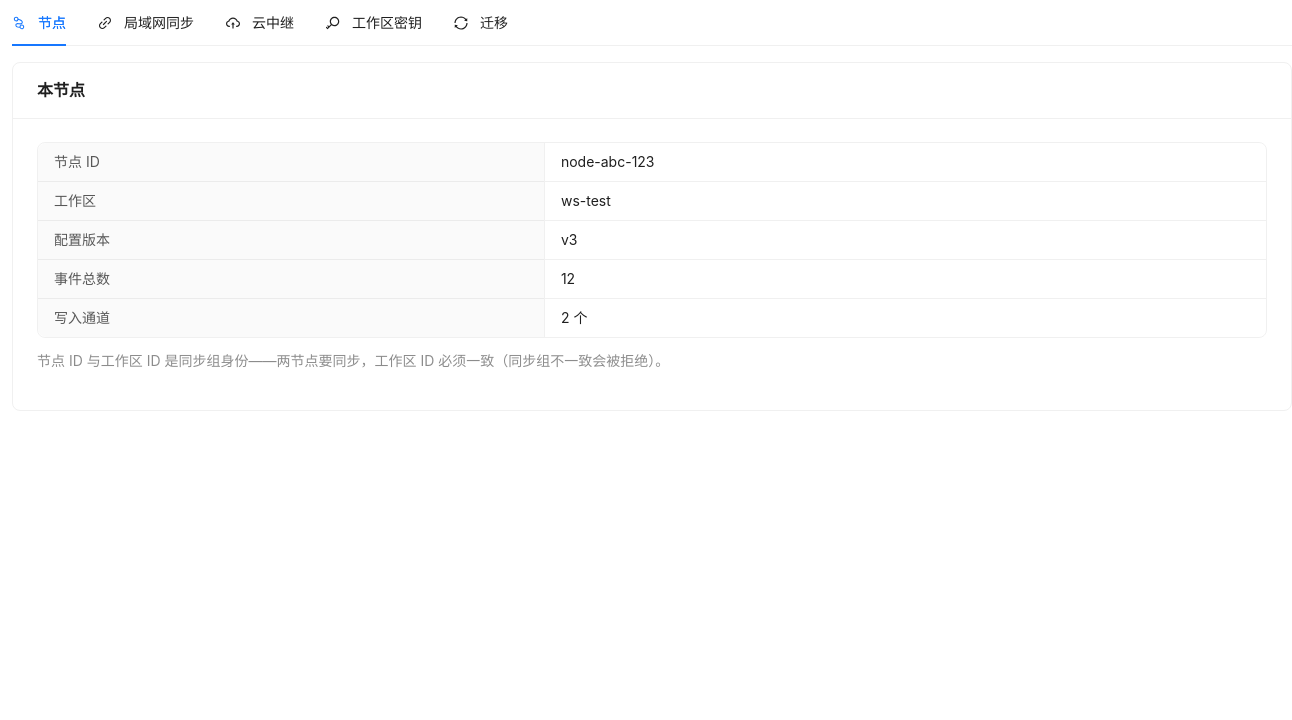
Test: 工作区密钥 › 生成 → 明文一次性展示（warning Alert）
Click the tab "工作区密钥" at (374, 23), box [326,12,422,34]
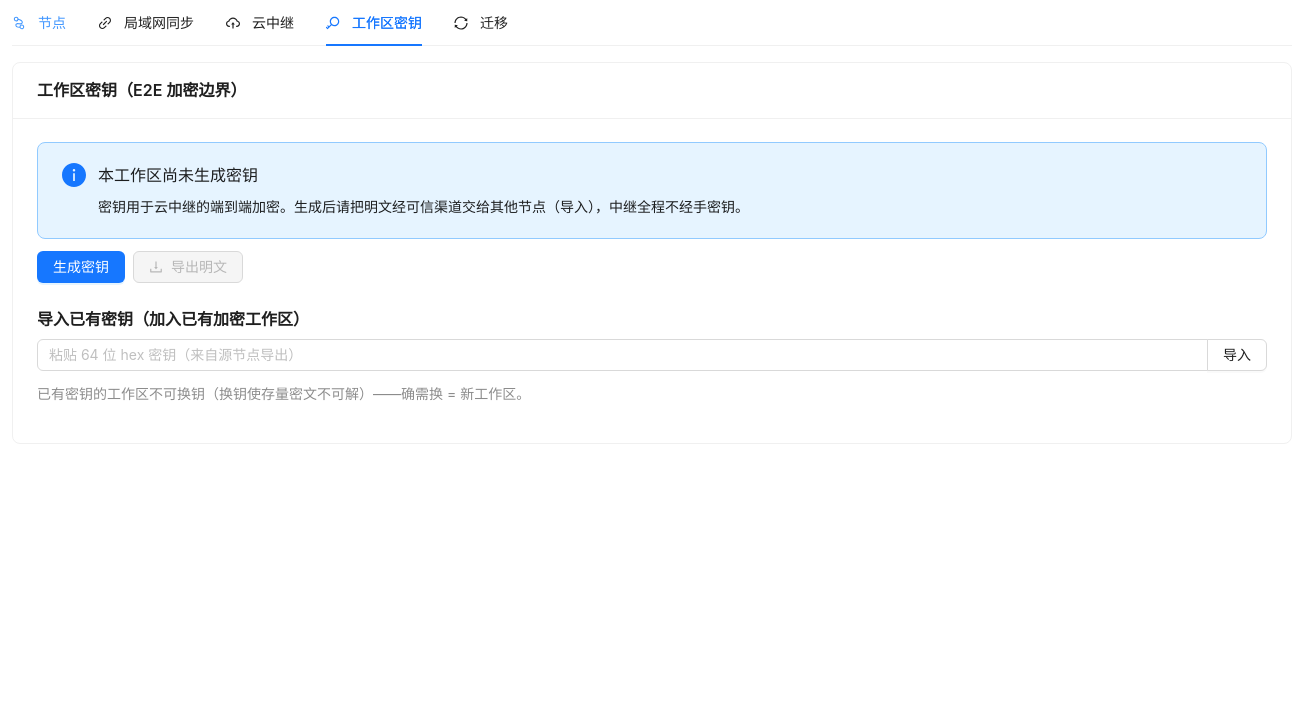
Now the text "本工作区尚未生成密钥" is shown, box [98,165,258,185]
Click the button "生成密钥" at (81, 267), box [37,251,125,283]
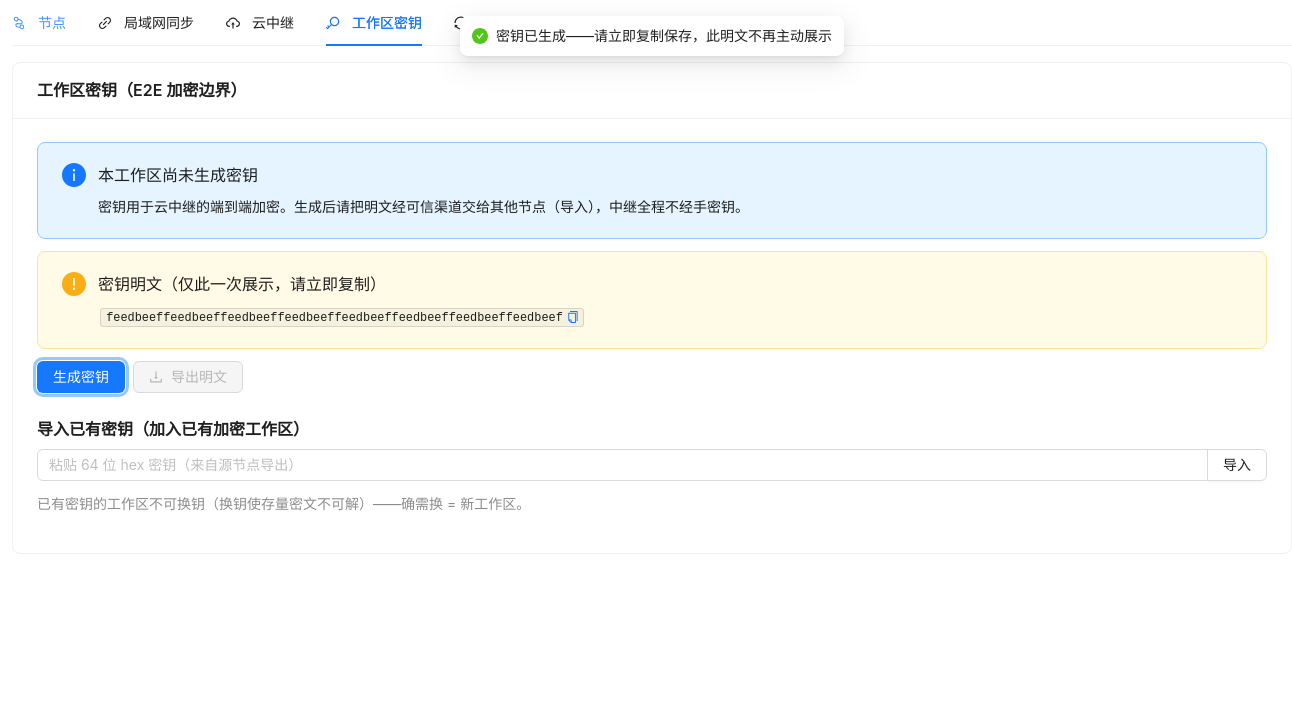
Now the text "密钥明文（仅此一次展示，请立即复制）" is shown, box [98,274,386,294]
